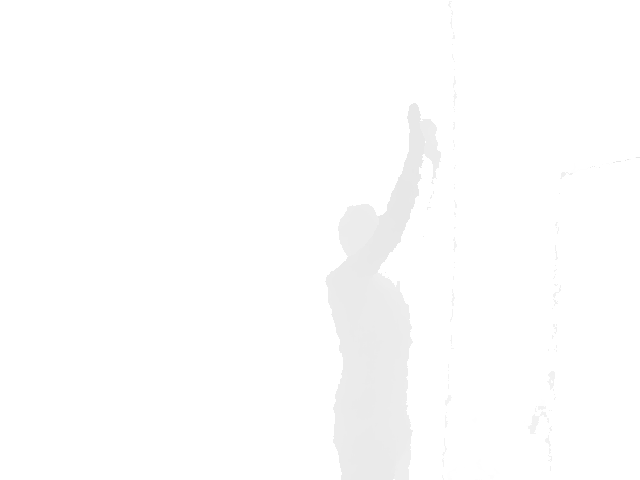hand: (406, 102, 427, 160), (418, 116, 440, 155)
head: (338, 203, 386, 257)
person: (323, 102, 443, 480)
